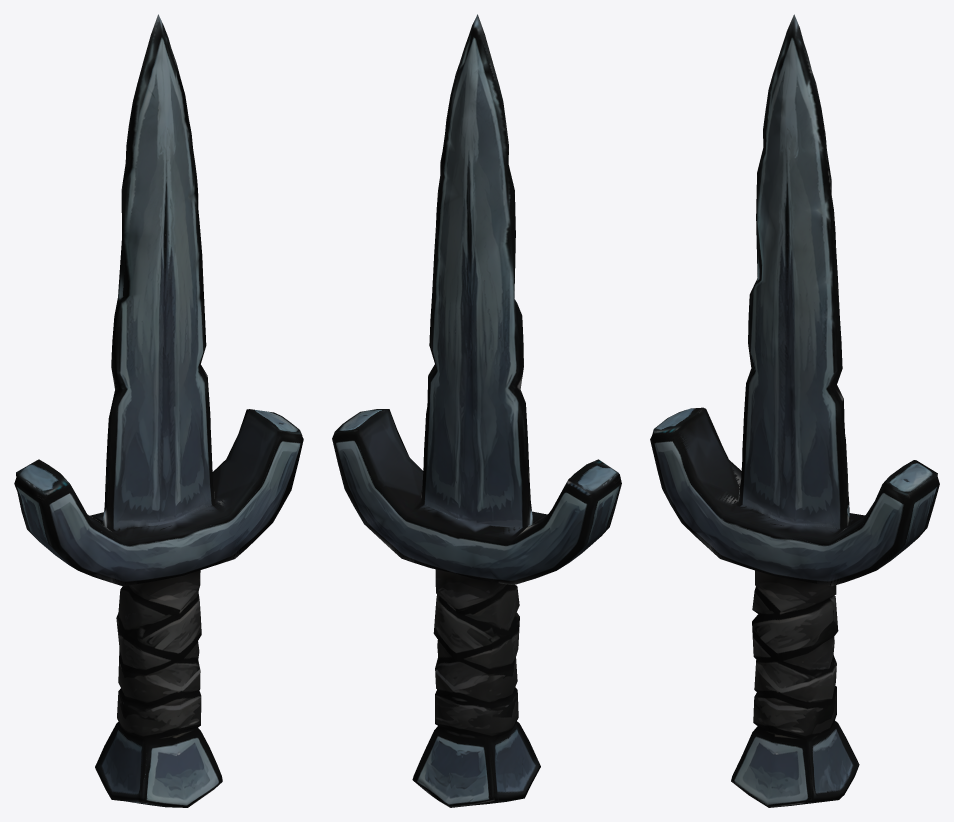
File: Prop_Weapon_AssassinsBlade.fbx
3 views of the same model, side by side, from view 1: azimuth 30°, elevation 25°; view 2: azimuth 150°, elevation 25°; view 3: azimuth 330°, elevation 25° (orthographic).
Visible parts, largest first — view 1: texture_mapping; view 2: texture_mapping; view 3: texture_mapping.
Boxes of the visible parts, x1,y1,x2,y2 form: texture_mapping: [14, 14, 303, 807]; texture_mapping: [332, 14, 621, 807]; texture_mapping: [650, 14, 939, 807].
Size of the model in its own units: 0.3484 by 0.1291 by 0.9945.
Materials: 1 (1 with a texture image).
